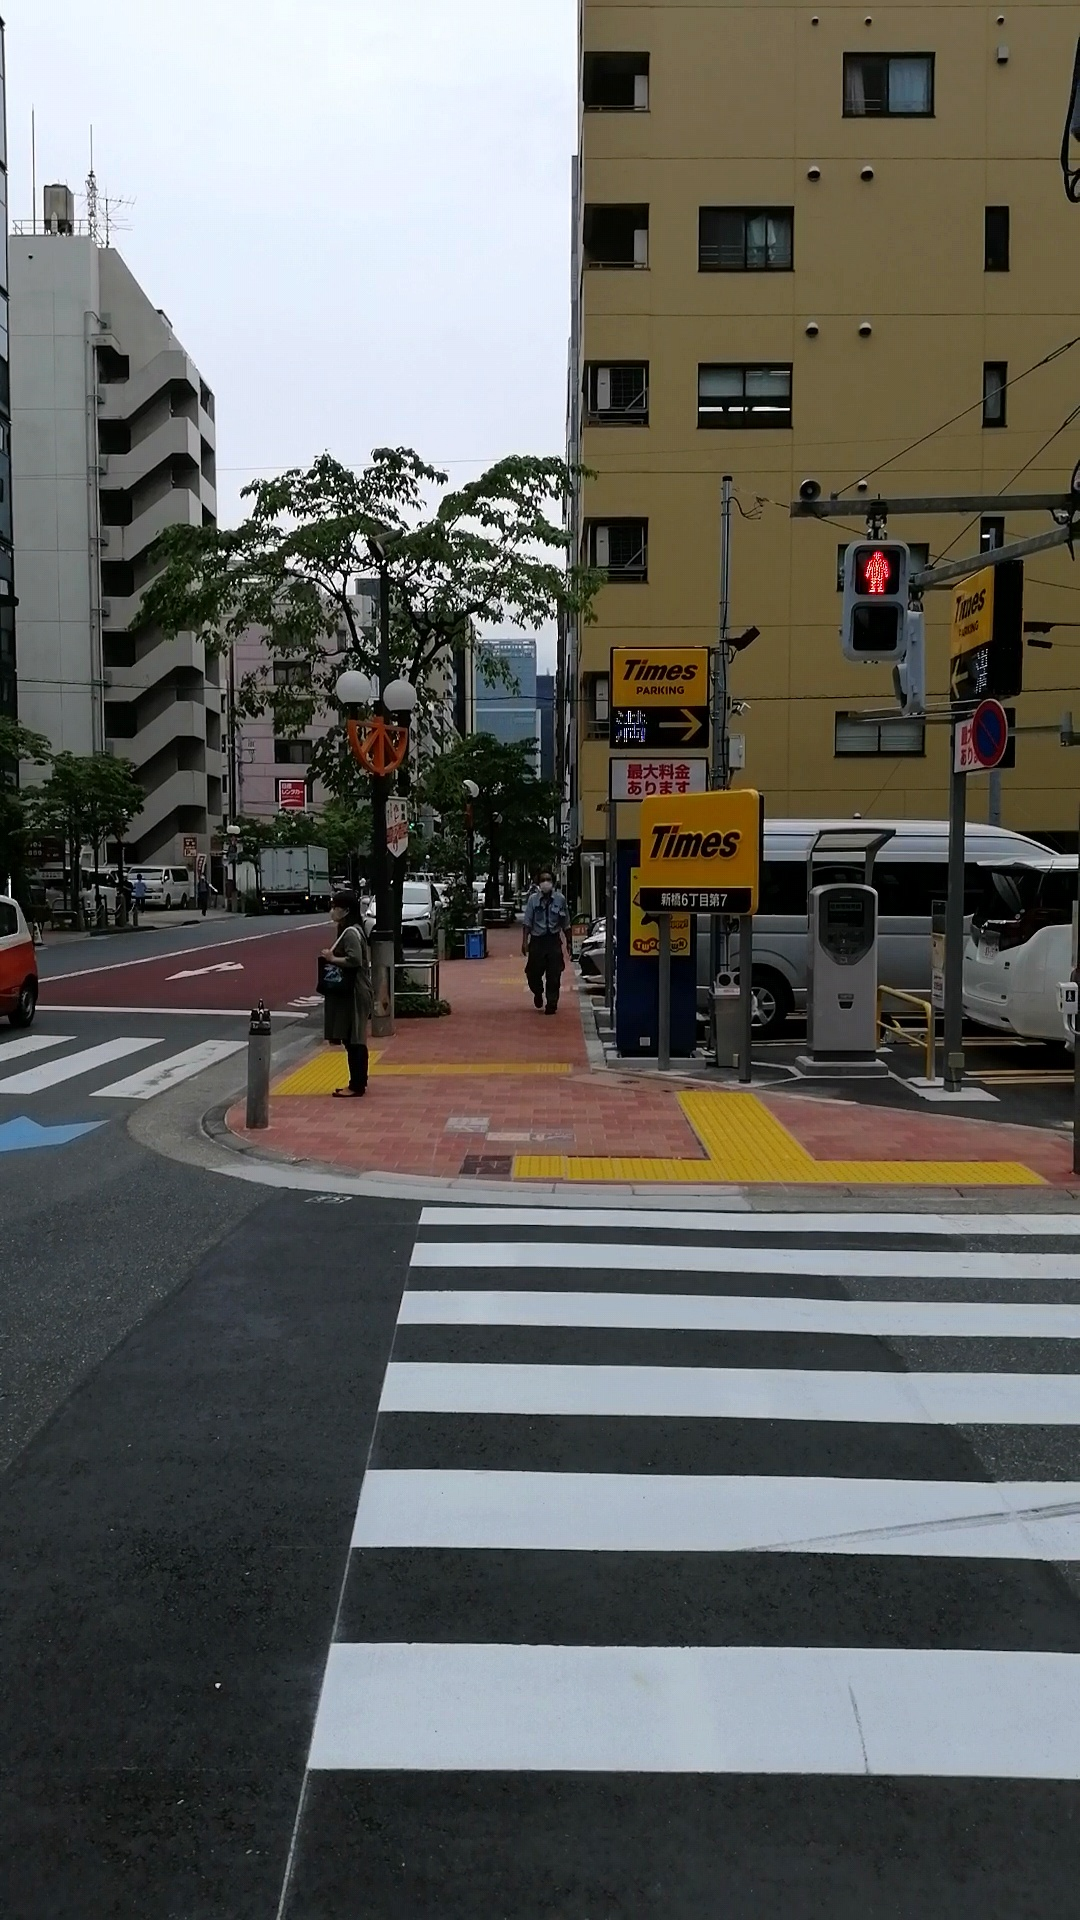red: (840, 535, 906, 661)
